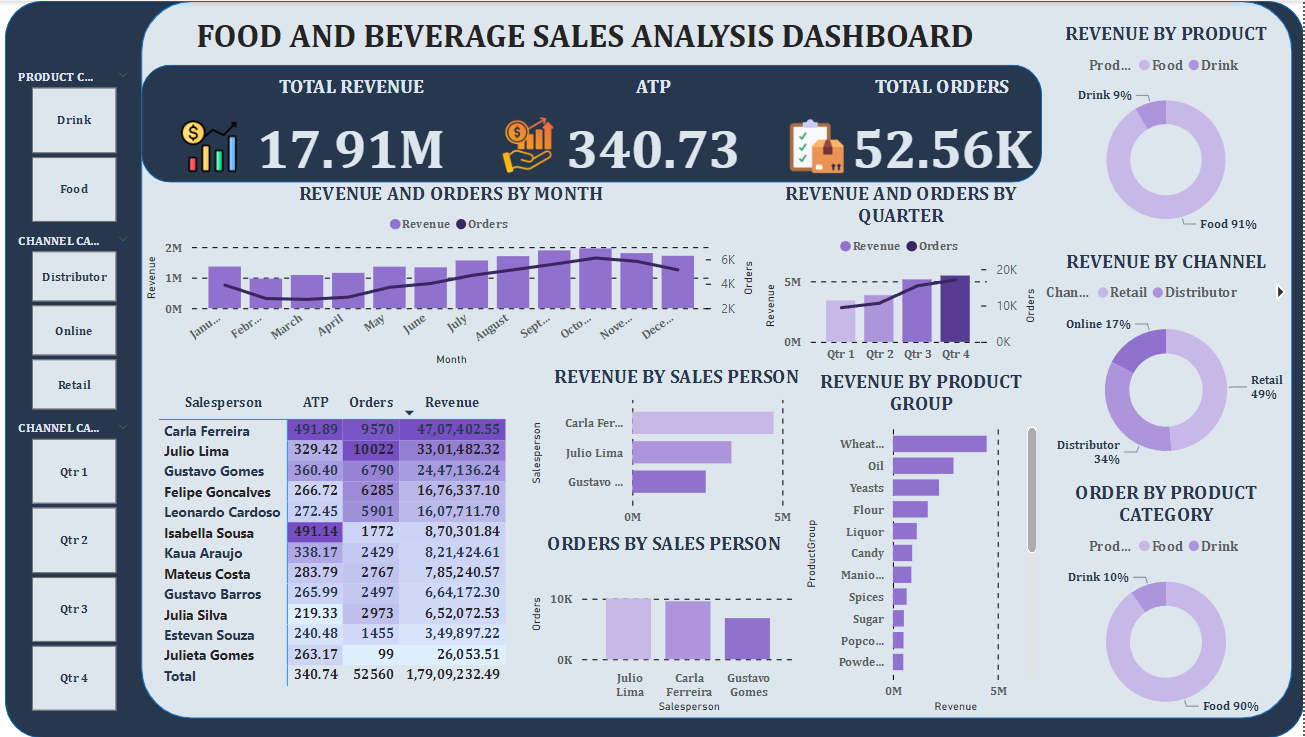

The page's visual inventory and layout, read from the dashboard file:
{"tool":"powerbi","page":{"name":"Page 1","canvas":[1280,720],"ordinal":0},"visuals":[{"type":"shape","box":[9.6,0,1270.7,720.4],"z":0},{"type":"shape","box":[142.7,0,1125.2,701.2],"z":1000},{"type":"shape","box":[142.7,61.7,881,115.3],"z":2000},{"type":"card","title":"TOTAL REVENUE","fields":{"Values":["Product.Revenue"]},"box":[225,72.7,247,115.3],"z":3000},{"type":"card","title":"ATP","fields":{"Values":["Product.ATP"]},"box":[506.3,72.7,275.8,115.3],"z":4000},{"type":"card","title":"TOTAL ORDERS","fields":{"Values":["Product.Orders"]},"box":[776.7,72.7,299.1,115.3],"z":5000},{"type":"donutChart","title":"REVENUE BY CHANNEL","fields":{"Y":["Product.Revenue"],"Category":["Sheet1.Channel"]},"box":[1023.7,242.9,244.3,223.7],"z":6000},{"type":"donutChart","title":"REVENUE BY PRODUCT","fields":{"Y":["Product.Revenue"],"Category":["Product.ProductCategory"]},"box":[1023.7,20.6,244.3,218.2],"z":7000},{"type":"lineClusteredColumnComboChart","title":"REVENUE AND ORDERS BY QUARTER","fields":{"Y2":["Product.Orders"],"Category":["Sheet1.OrderDate.Variation.Date Hierarchy.Quarter"],"Y":["Product.Revenue"]},"box":[747.9,177,275.8,183.9],"z":8000},{"type":"donutChart","title":"ORDER BY PRODUCT CATEGORY","fields":{"Y":["Product.Orders"],"Category":["Product.ProductCategory"]},"box":[1023.7,469.3,244.3,241.5],"z":9000},{"type":"barChart","title":"REVENUE BY PRODUCT GROUP","fields":{"Y":["Product.Revenue"],"Category":["Product.ProductGroup"]},"box":[789,360.9,234.6,340.3],"z":10000},{"type":"lineClusteredColumnComboChart","title":"REVENUE AND ORDERS BY MONTH","fields":{"Y2":["Product.Orders"],"Y":["Product.Revenue"],"Category":["Sheet1.OrderDate.Variation.Date Hierarchy.Month"]},"box":[142.7,177,605.1,183.9],"z":11000},{"type":"barChart","title":"REVENUE BY SALES PERSON","fields":{"Y":["Product.Revenue"],"Category":["Sheet1.Salesperson"]},"box":[520.1,355.4,293.7,164.7],"z":12000},{"type":"clusteredColumnChart","title":"ORDERS BY SALES PERSON","fields":{"Category":["Sheet1.Salesperson"],"Y":["Product.Orders"]},"box":[520.1,520.1,269,181.1],"z":13000},{"type":"pivotTable","fields":{"Rows":["Sheet1.Salesperson"],"Values":["Product.ATP","Product.Orders","Product.Revenue"]},"box":[155.1,377.4,354,307.4],"z":14000},{"type":"slicer","fields":{"Values":["Product.ProductCategory"]},"box":[9.6,61.7,133.1,160.5],"z":15000},{"type":"slicer","fields":{"Values":["Sheet1.Channel"]},"box":[9.6,222.3,133.1,183.9],"z":16000},{"type":"slicer","fields":{"Values":["Sheet1.OrderDate.Variation.Date Hierarchy.Quarter"]},"box":[9.6,406.2,133.1,295],"z":17000},{"type":"textbox","box":[181.1,9.6,791.8,52.1],"z":18000},{"type":"image","box":[167.4,109.8,82.3,64.5],"z":19000},{"type":"image","box":[763,109.8,81,64.5],"z":20000},{"type":"image","box":[480.3,108.4,81,64.5],"z":21000}]}

Visuals, with their boxes in screenshot pixels (x1, y1, x2, y2), scaled from the page's 1280x720 canvas onto the 1305x737 screenshot:
shape: l=10, t=0, r=1304, b=736
shape: l=145, t=0, r=1293, b=718
shape: l=145, t=63, r=1044, b=181
"TOTAL REVENUE" card: l=229, t=74, r=481, b=192
"ATP" card: l=516, t=74, r=797, b=192
"TOTAL ORDERS" card: l=792, t=74, r=1097, b=192
"REVENUE BY CHANNEL" donutChart: l=1044, t=249, r=1293, b=478
"REVENUE BY PRODUCT" donutChart: l=1044, t=21, r=1293, b=244
"REVENUE AND ORDERS BY QUARTER" lineClusteredColumnComboChart: l=763, t=181, r=1044, b=369
"ORDER BY PRODUCT CATEGORY" donutChart: l=1044, t=480, r=1293, b=728
"REVENUE BY PRODUCT GROUP" barChart: l=804, t=369, r=1044, b=718
"REVENUE AND ORDERS BY MONTH" lineClusteredColumnComboChart: l=145, t=181, r=762, b=369
"REVENUE BY SALES PERSON" barChart: l=530, t=364, r=830, b=532
"ORDERS BY SALES PERSON" clusteredColumnChart: l=530, t=532, r=805, b=718
pivotTable - Sheet1.Salesperson x Product.ATP: l=158, t=386, r=519, b=701
slicer - Product.ProductCategory: l=10, t=63, r=145, b=227
slicer - Sheet1.Channel: l=10, t=228, r=145, b=416
slicer - Sheet1.OrderDate.Variation.Date Hierarchy.Quarter: l=10, t=416, r=145, b=718
textbox: l=185, t=10, r=992, b=63
image: l=171, t=112, r=255, b=178
image: l=778, t=112, r=860, b=178
image: l=490, t=111, r=572, b=177
